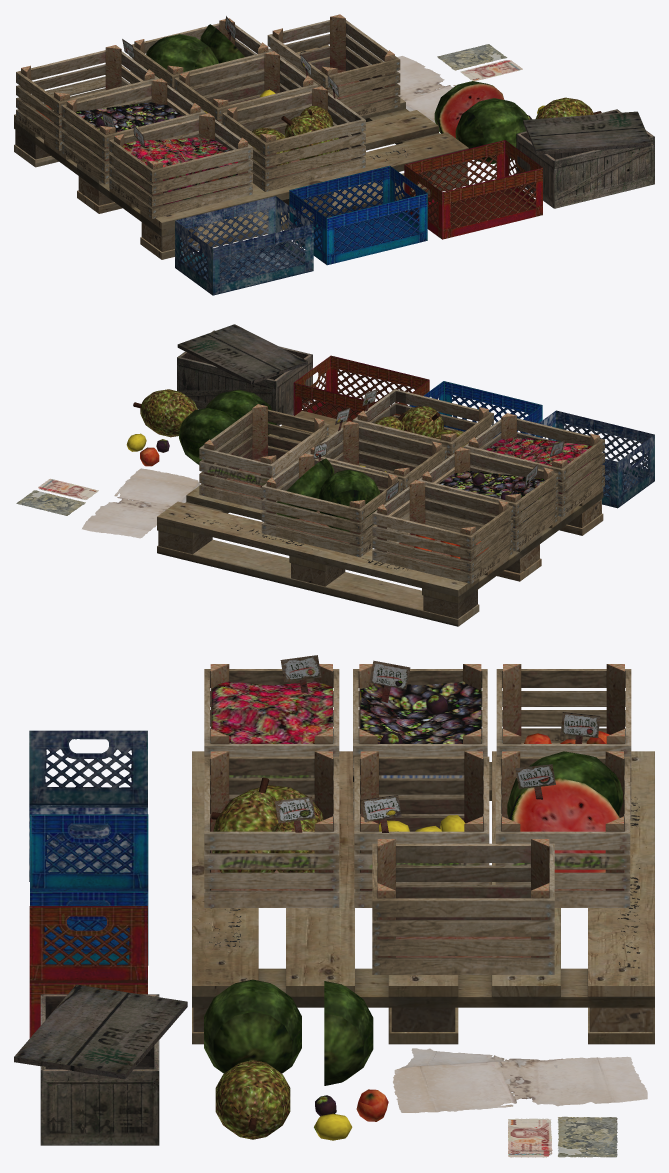
Rendered from FruitSellerSet.fbx.
3 views of the same model, one above another, from view 1: azimuth 30°, elevation 25°; view 2: azimuth 150°, elevation 25°; view 3: azimuth 270°, elevation 25° (orthographic). The views are drawn at different scales.
Visible parts, largest first — view 1: WoodenPalette, RambutanCrate, WoodenCrate, DurianCrate, PlasticCrateBluePaint, PlasticCrateBlue, PlasticCrateRed, EmptyCrate, MangusteenCrate, AppleCrate, LemonCrate, WatermelonCrate (+6 smaller); view 2: WoodenPalette, AppleCrate, WatermelonCrate, WoodenCrate, EmptyCrate, MangusteenCrate, RambutanCrate, DurianCrate, LemonCrate, PlasticCrateRed, PlasticCrateBluePaint, FlatBox (+6 smaller); view 3: WoodenPalette, EmptyCrate, DurianCrate, WoodenCrate, WatermelonCrate, LemonCrate, MangusteenCrate, RambutanCrate, FlatBox, PlasticCrateBlue, AppleCrate, PlasticCrateBluePaint (+8 smaller).
Part boxes in pixels (x1,y1,x2,y2): WoodenPalette: (14,45,468,259); RambutanCrate: (109,113,252,218); WoodenCrate: (516,109,654,208); DurianCrate: (222,75,365,191); PlasticCrateBluePaint: (175,196,313,295); PlasticCrateBlue: (289,165,427,265); PlasticCrateRed: (404,140,542,239); EmptyCrate: (267,14,400,122); MangusteenCrate: (61,78,205,184); AppleCrate: (16,39,159,150); LemonCrate: (174,51,318,138); WatermelonCrate: (129,16,271,109); WoodenPalette: (157,410,603,626); AppleCrate: (372,480,513,583); WatermelonCrate: (261,441,402,557); WoodenCrate: (177,324,312,425); EmptyCrate: (199,404,329,510); MangusteenCrate: (417,447,558,550); RambutanCrate: (464,413,604,516); DurianCrate: (352,389,493,477); LemonCrate: (307,407,446,516); PlasticCrateRed: (293,355,429,421); PlasticCrateBluePaint: (524,410,654,508); FlatBox: (82,468,200,538); WoodenPalette: (192,751,654,1044); EmptyCrate: (372,839,554,974); DurianCrate: (204,751,339,907); WoodenCrate: (14,984,187,1145); WatermelonCrate: (495,751,630,907); LemonCrate: (354,751,489,907); MangusteenCrate: (353,660,487,820); RambutanCrate: (204,655,339,815); FlatBox: (393,1048,647,1112); PlasticCrateBlue: (30,814,148,965); AppleCrate: (496,664,631,820); PlasticCrateBluePaint: (29,730,147,881).
Size of the model in its own units: 187 by 44.38 by 141.
